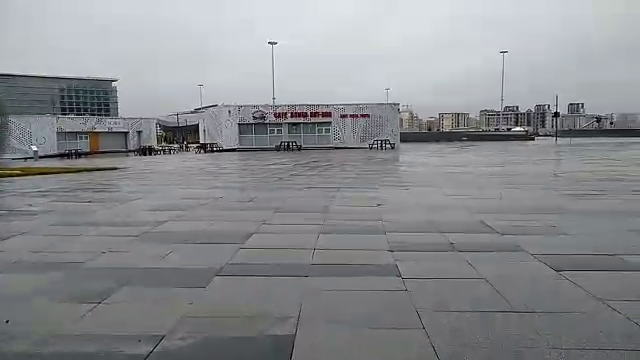kebab: (238, 104, 396, 151)
